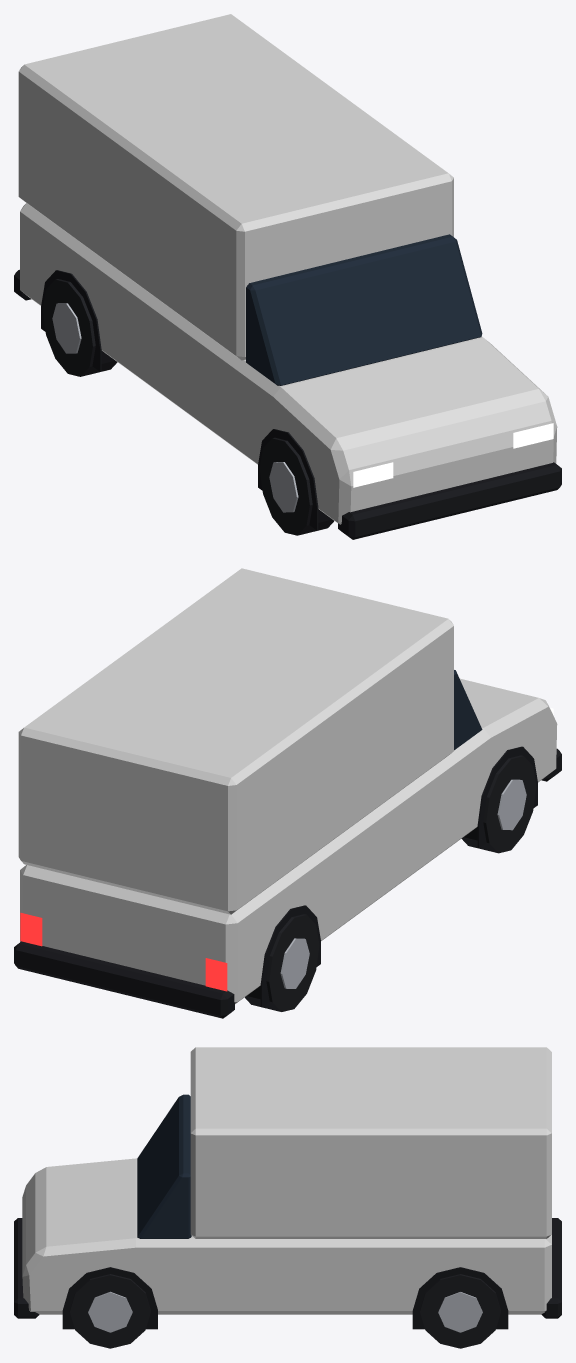
The model's file is van.glb.
3 renders of one model, top to bottom at view 1: azimuth 30°, elevation 25°; view 2: azimuth 150°, elevation 25°; view 3: azimuth 270°, elevation 25°, orthographic. The views are drawn at different scales.
Parts seen in each view (by area): view 1: box, tub, cab, bumper_f, wheel_RL, wheel_FL, wheel_FL_hub, wheel_RL_hub, arch_+1.8_-1, arch_-1.7_-1, lamp_head_R, lamp_head_L; view 2: box, tub, bumper_r, wheel_RL, wheel_FL, cab, wheel_FL_hub, wheel_RL_hub, arch_+1.8_-1, arch_-1.7_-1, lamp_tail_L, lamp_tail_R; view 3: box, tub, cab, wheel_FR, wheel_RR, arch_-1.7_1, arch_+1.8_1, wheel_FR_hub, wheel_RR_hub, bumper_r, bumper_f.
Part boxes in pixels (left/top/right/bottom): box: left=18, top=14, right=453, bottom=360; tub: left=20, top=203, right=557, bottom=524; cab: left=246, top=234, right=482, bottom=385; bumper_f: left=338, top=462, right=561, bottom=539; wheel_RL: left=42, top=279, right=117, bottom=376; wheel_FL: left=259, top=437, right=333, bottom=535; wheel_FL_hub: left=269, top=462, right=298, bottom=512; wheel_RL_hub: left=52, top=303, right=81, bottom=353; arch_+1.8_-1: left=258, top=429, right=318, bottom=530; arch_-1.7_-1: left=41, top=270, right=101, bottom=371; lamp_head_R: left=513, top=423, right=553, bottom=448; lamp_head_L: left=353, top=462, right=393, bottom=487; box: left=18, top=568, right=453, bottom=914; tub: left=20, top=678, right=557, bottom=1003; bumper_r: left=14, top=941, right=234, bottom=1018; wheel_RL: left=245, top=914, right=319, bottom=1011; wheel_FL: left=461, top=755, right=536, bottom=853; cab: left=454, top=670, right=482, bottom=750; wheel_FL_hub: left=497, top=779, right=526, bottom=830; wheel_RL_hub: left=280, top=938, right=309, bottom=988; arch_+1.8_-1: left=477, top=746, right=537, bottom=848; arch_-1.7_-1: left=260, top=905, right=320, bottom=1006; lamp_tail_L: left=205, top=958, right=227, bottom=991; lamp_tail_R: left=20, top=912, right=42, bottom=946; box: left=190, top=1047, right=551, bottom=1238; tub: left=22, top=1158, right=551, bottom=1314; cab: left=137, top=1094, right=191, bottom=1238; wheel_FR: left=69, top=1274, right=150, bottom=1348; wheel_RR: left=420, top=1274, right=500, bottom=1348; arch_-1.7_1: left=412, top=1267, right=508, bottom=1329; arch_+1.8_1: left=62, top=1267, right=157, bottom=1329; wheel_FR_hub: left=88, top=1291, right=132, bottom=1332; wheel_RR_hub: left=438, top=1292, right=482, bottom=1332; bumper_r: left=541, top=1218, right=561, bottom=1318; bumper_f: left=14, top=1218, right=39, bottom=1318.
Size of the model in its own units: 2.11 by 2.35 by 5.4.
